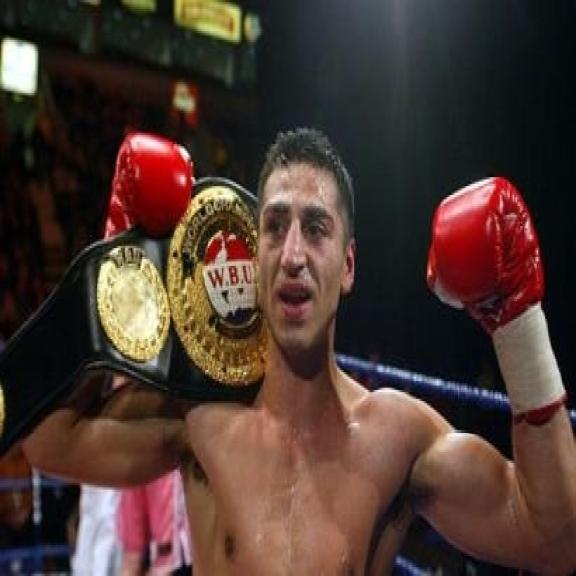face: (248, 132, 358, 360)
